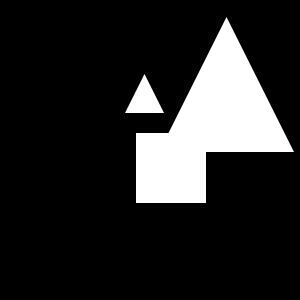circle: (136, 133, 206, 203)
triangle: (159, 17, 294, 152), (125, 74, 164, 113)
